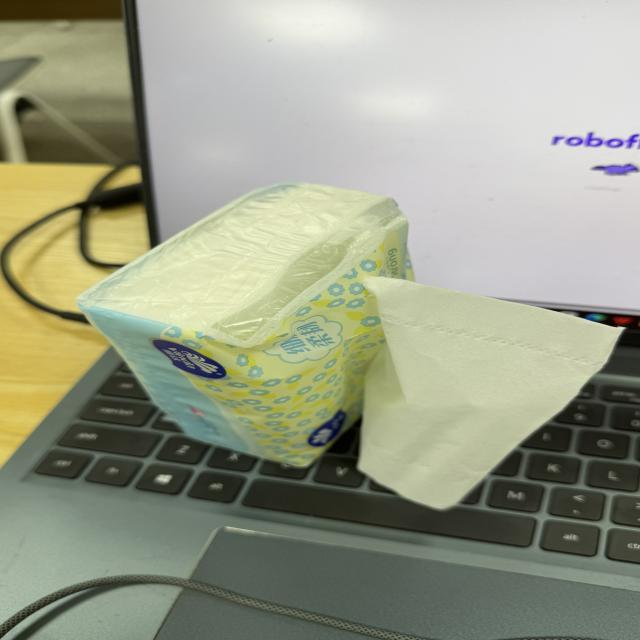tissue: (79, 183, 619, 508), (78, 183, 407, 466), (359, 279, 622, 508)
